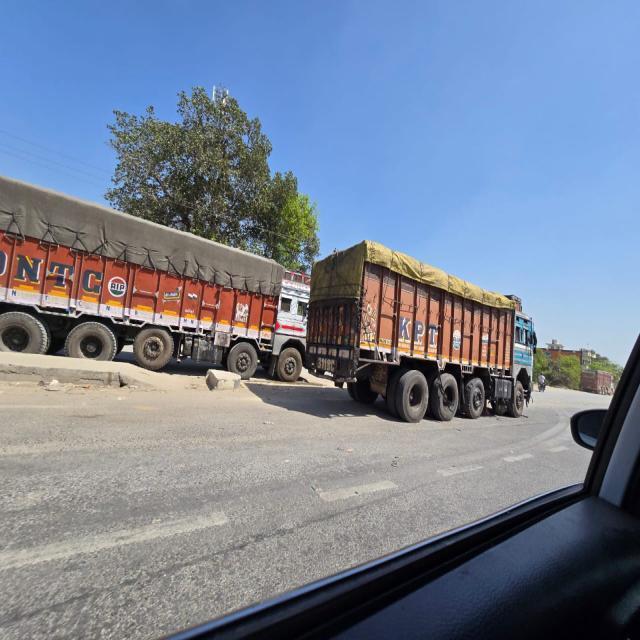covered: (3, 169, 309, 384), (316, 238, 538, 432)
